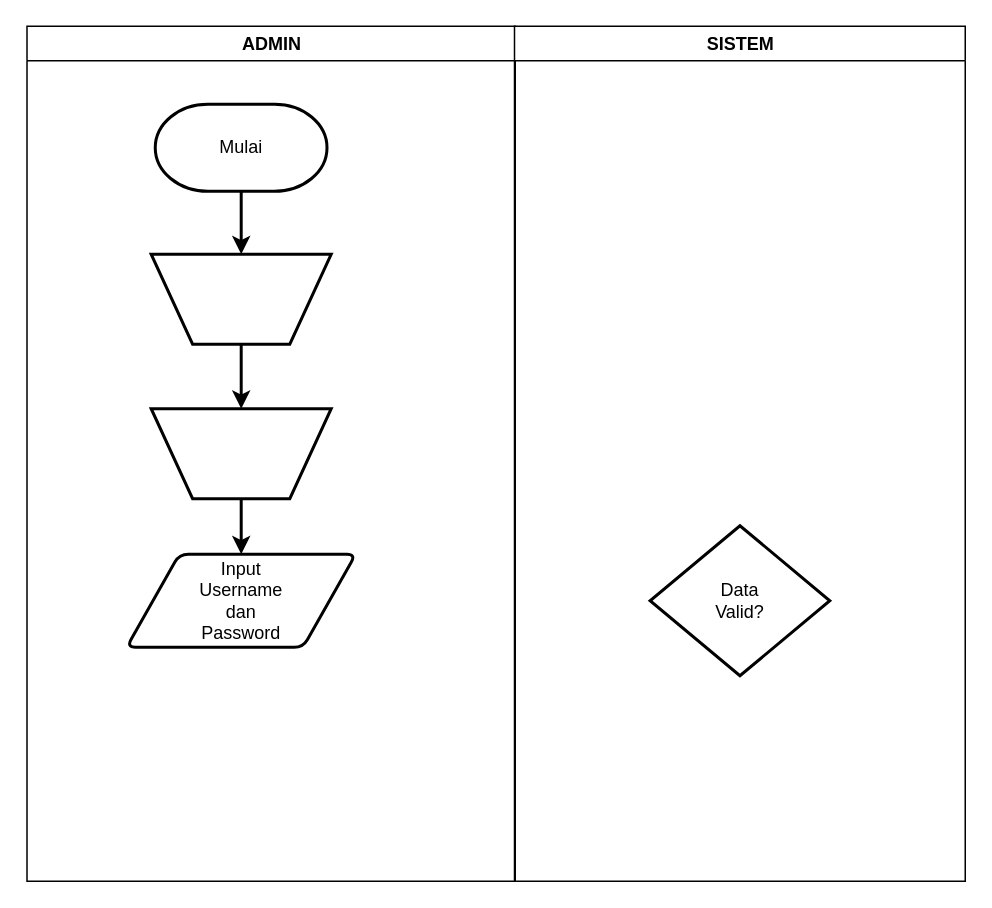
The diagram is 992 pixels wide and 908 high, and some of its shapes have lost their labels. The centre of each missing label's shape, as x and y in pixels:
Login: (x=240, y=453)
Membuka Aplikasi: (x=240, y=298)
